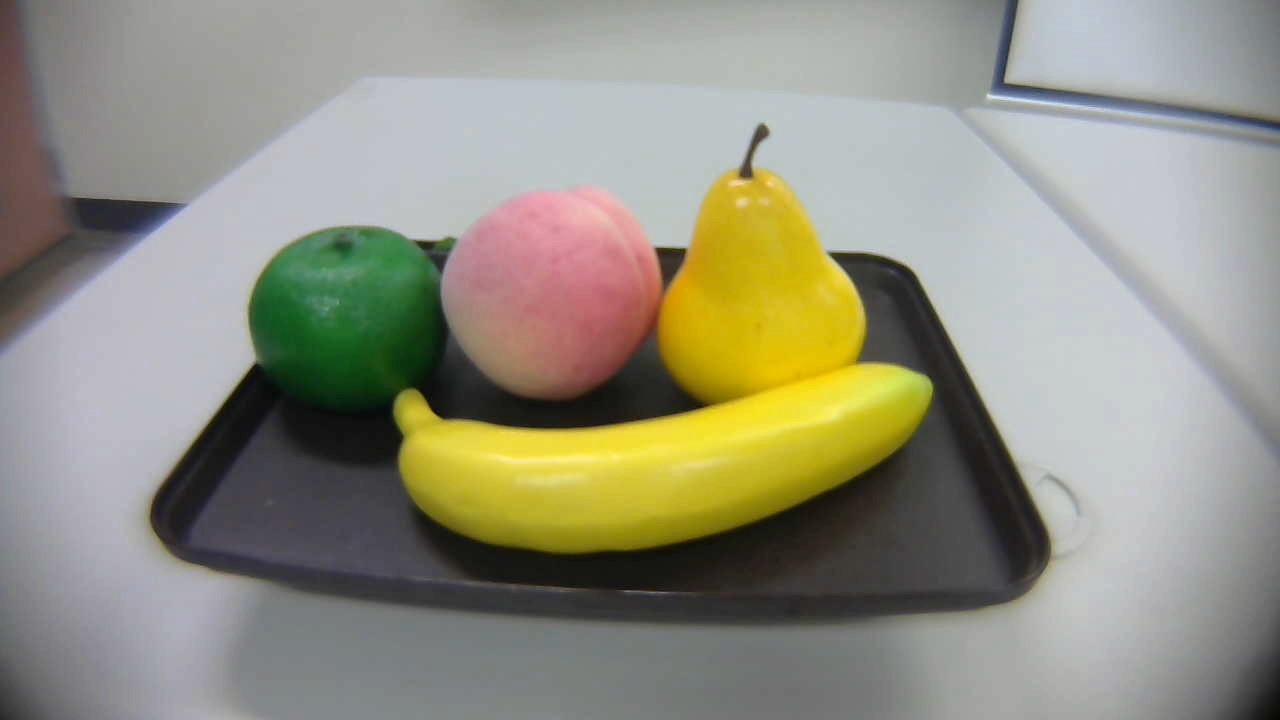banana: (374, 364, 949, 547)
green orange: (249, 222, 457, 419)
peach: (422, 174, 683, 400)
yellow pear: (635, 122, 890, 405)
